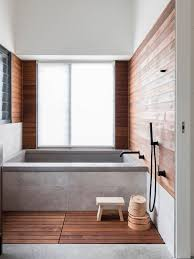bathub: (1, 141, 159, 215)
